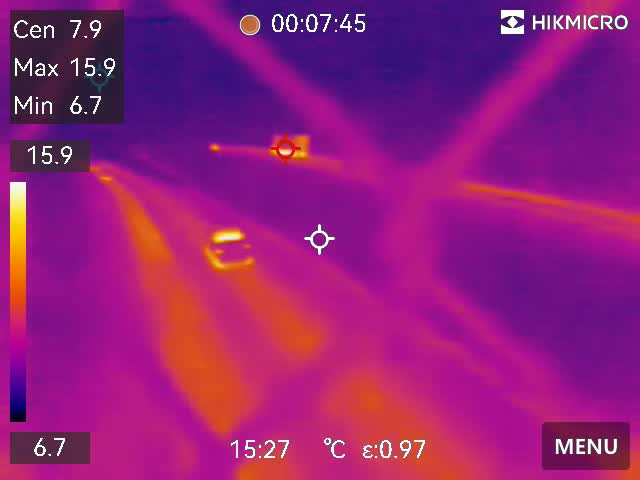vehicle: (200, 224, 260, 271)
